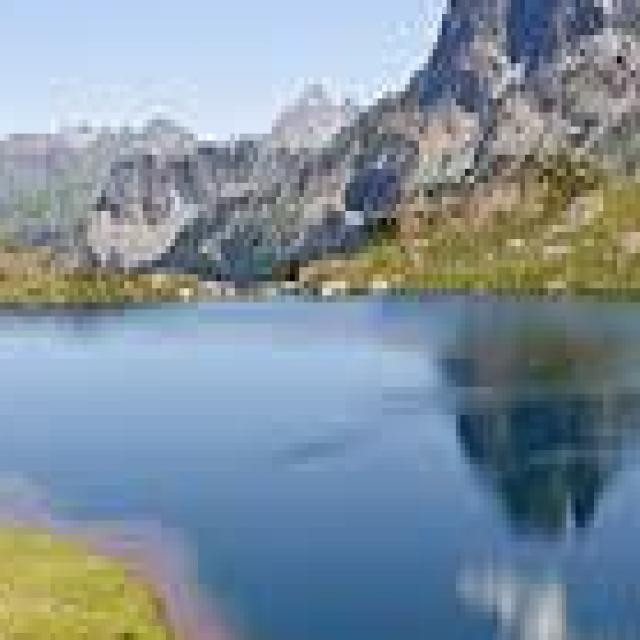-: (0, 295, 640, 640)
